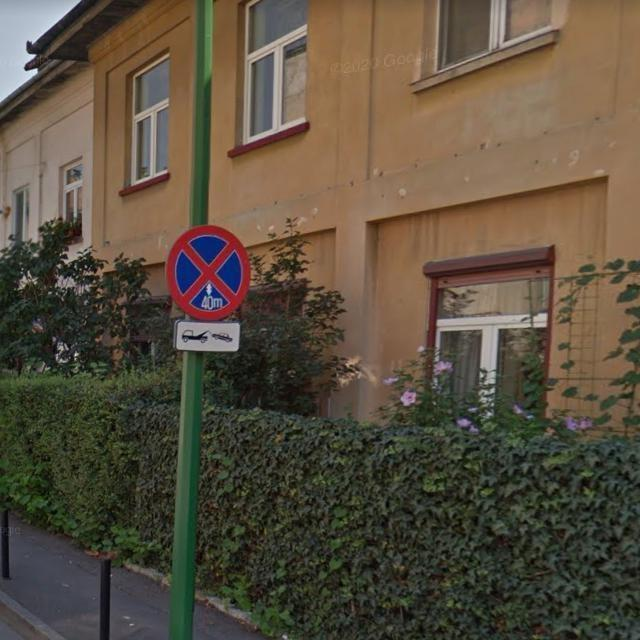forb_waiting: (166, 225, 250, 322)
